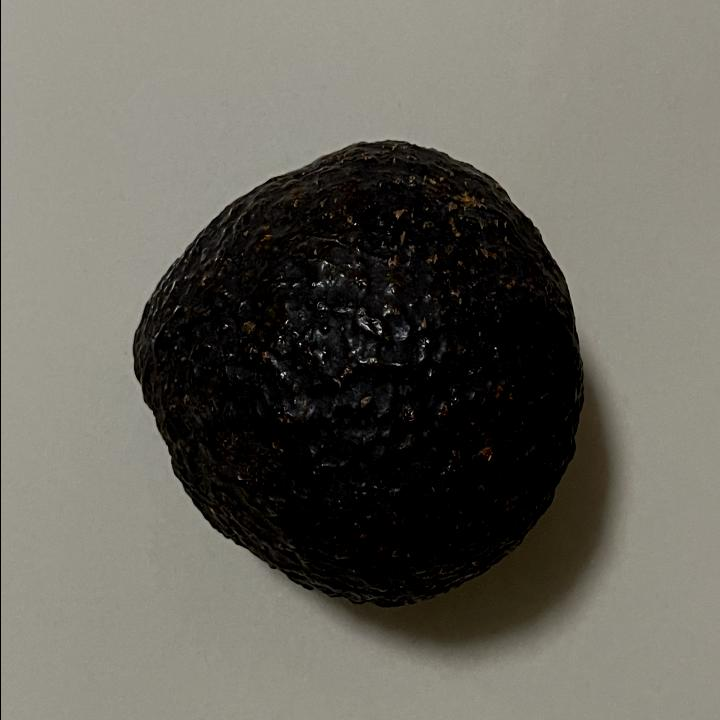Level3: (118, 124, 592, 622)
